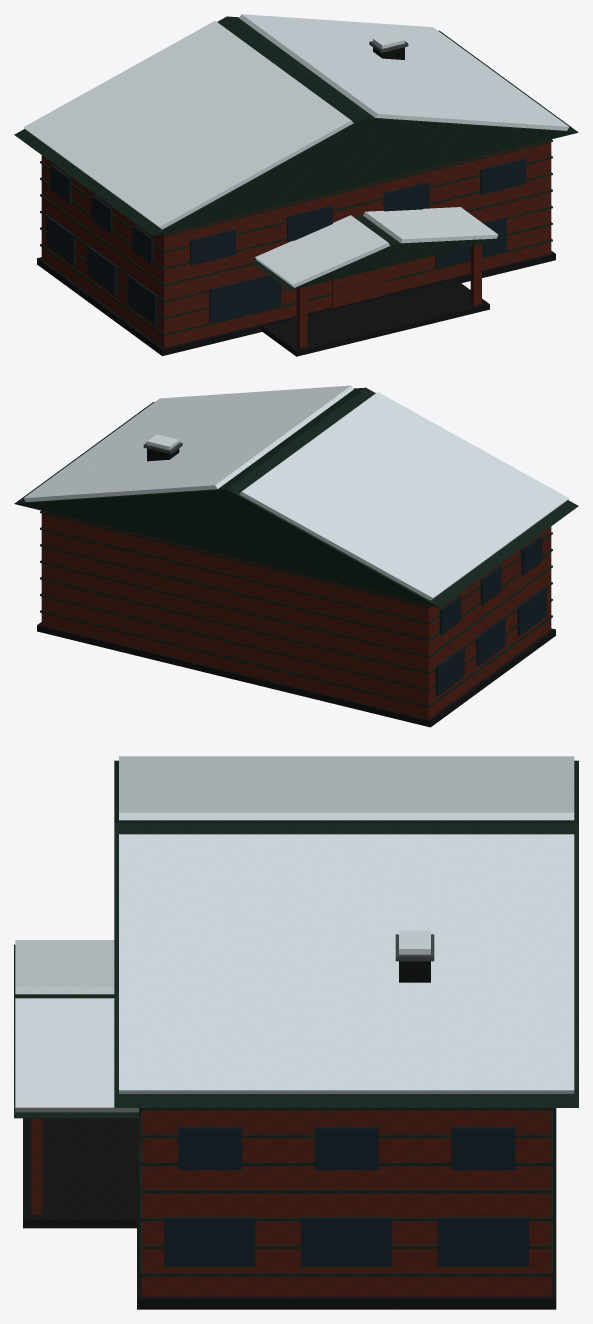
File: ski-lodge.glb
3 renders of one model, top to bottom at view 1: azimuth 30°, elevation 25°; view 2: azimuth 150°, elevation 25°; view 3: azimuth 270°, elevation 25°, orthographic. The views are drawn at different scales.
Visible parts, largest first — view 1: ski-lodge-lodge-hall_3, ski-lodge-lodge-hall_1, ski-lodge-lodge-hall_2, ski-lodge-lodge-hall_5, ski-lodge-lodge-hall_0, ski-lodge-lodge-hall_4; view 2: ski-lodge-lodge-hall_3, ski-lodge-lodge-hall_1, ski-lodge-lodge-hall_2, ski-lodge-lodge-hall_0, ski-lodge-lodge-hall_5; view 3: ski-lodge-lodge-hall_3, ski-lodge-lodge-hall_1, ski-lodge-lodge-hall_2, ski-lodge-lodge-hall_5, ski-lodge-lodge-hall_0.
Part boxes in pixels (<box>): ski-lodge-lodge-hall_3: <box>24,14,568,287</box>; ski-lodge-lodge-hall_1: <box>41,139,551,348</box>; ski-lodge-lodge-hall_2: <box>14,16,578,336</box>; ski-lodge-lodge-hall_5: <box>46,158,526,324</box>; ski-lodge-lodge-hall_0: <box>37,47,555,356</box>; ski-lodge-lodge-hall_4: <box>332,267,384,307</box>; ski-lodge-lodge-hall_3: <box>23,385,568,600</box>; ski-lodge-lodge-hall_1: <box>41,511,551,719</box>; ski-lodge-lodge-hall_2: <box>14,387,578,707</box>; ski-lodge-lodge-hall_0: <box>37,448,555,727</box>; ski-lodge-lodge-hall_5: <box>435,536,546,696</box>; ski-lodge-lodge-hall_3: <box>15,756,574,1112</box>; ski-lodge-lodge-hall_1: <box>31,1110,551,1296</box>; ski-lodge-lodge-hall_2: <box>14,760,578,1276</box>; ski-lodge-lodge-hall_5: <box>139,1108,528,1266</box>; ski-lodge-lodge-hall_0: <box>23,961,556,1309</box>.
Bounding box in the file's own units: 16 × 7 × 11.
Materials: 6 (6 with a texture image).
